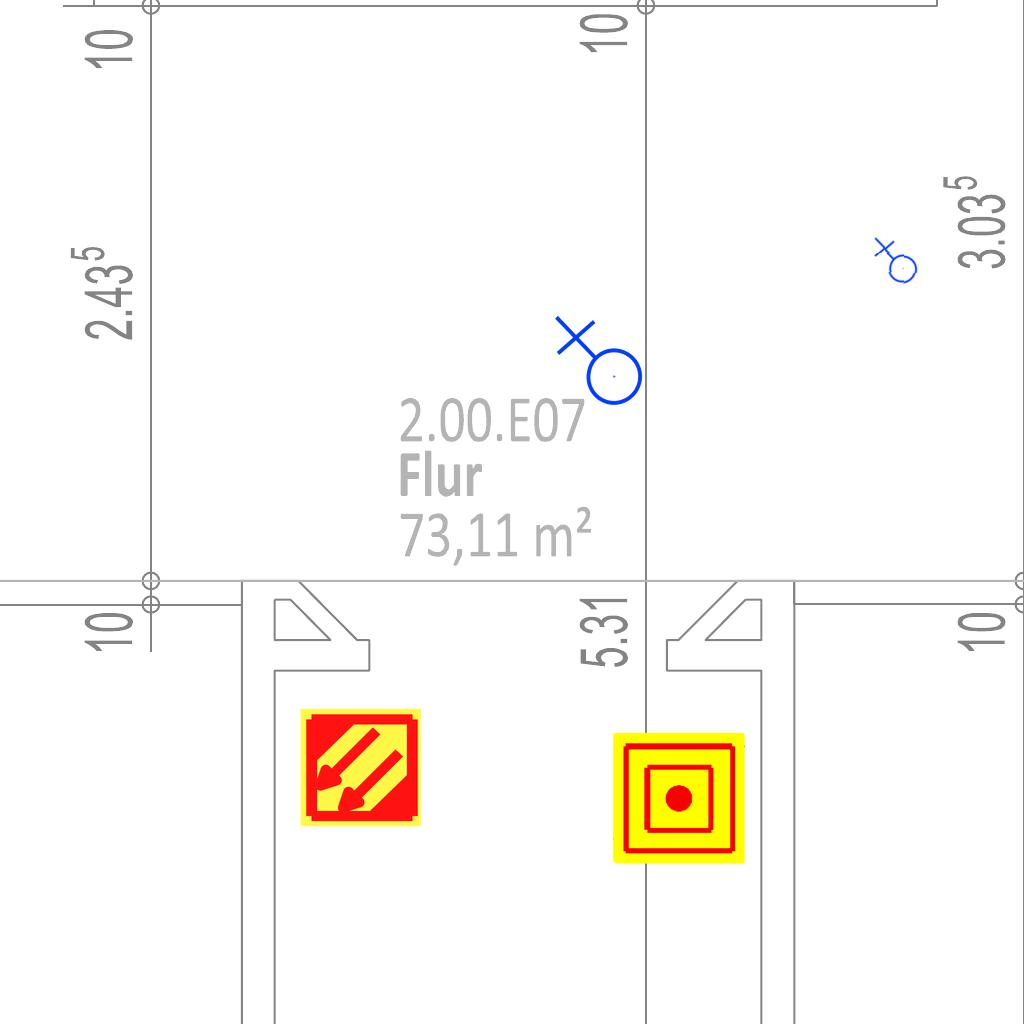ASR_Ansaugrauchmelder: (298, 705, 423, 830)
Elektroanschluss_allgemein_230V_Geraeteanschlussdose_230V: (550, 315, 644, 414), (869, 236, 920, 289)
NAM-Nichtautomatischer_Melder: (613, 732, 745, 864)
